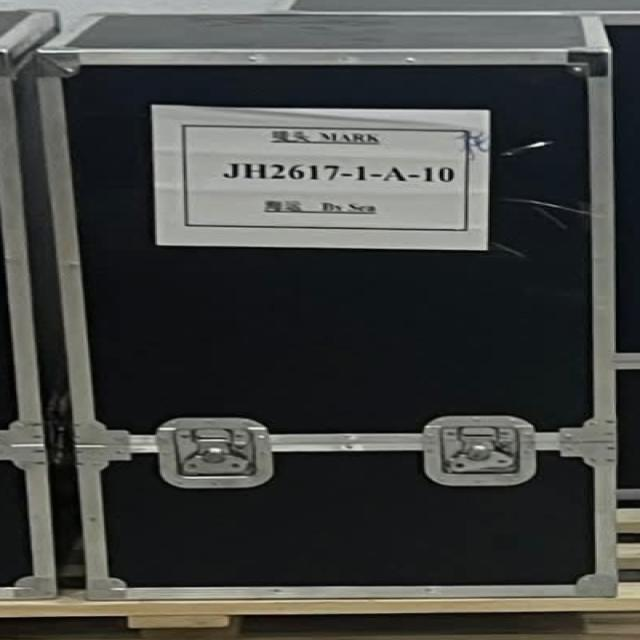export_mark_label: (136, 88, 539, 266)
wooden_box: (24, 1, 640, 619)
